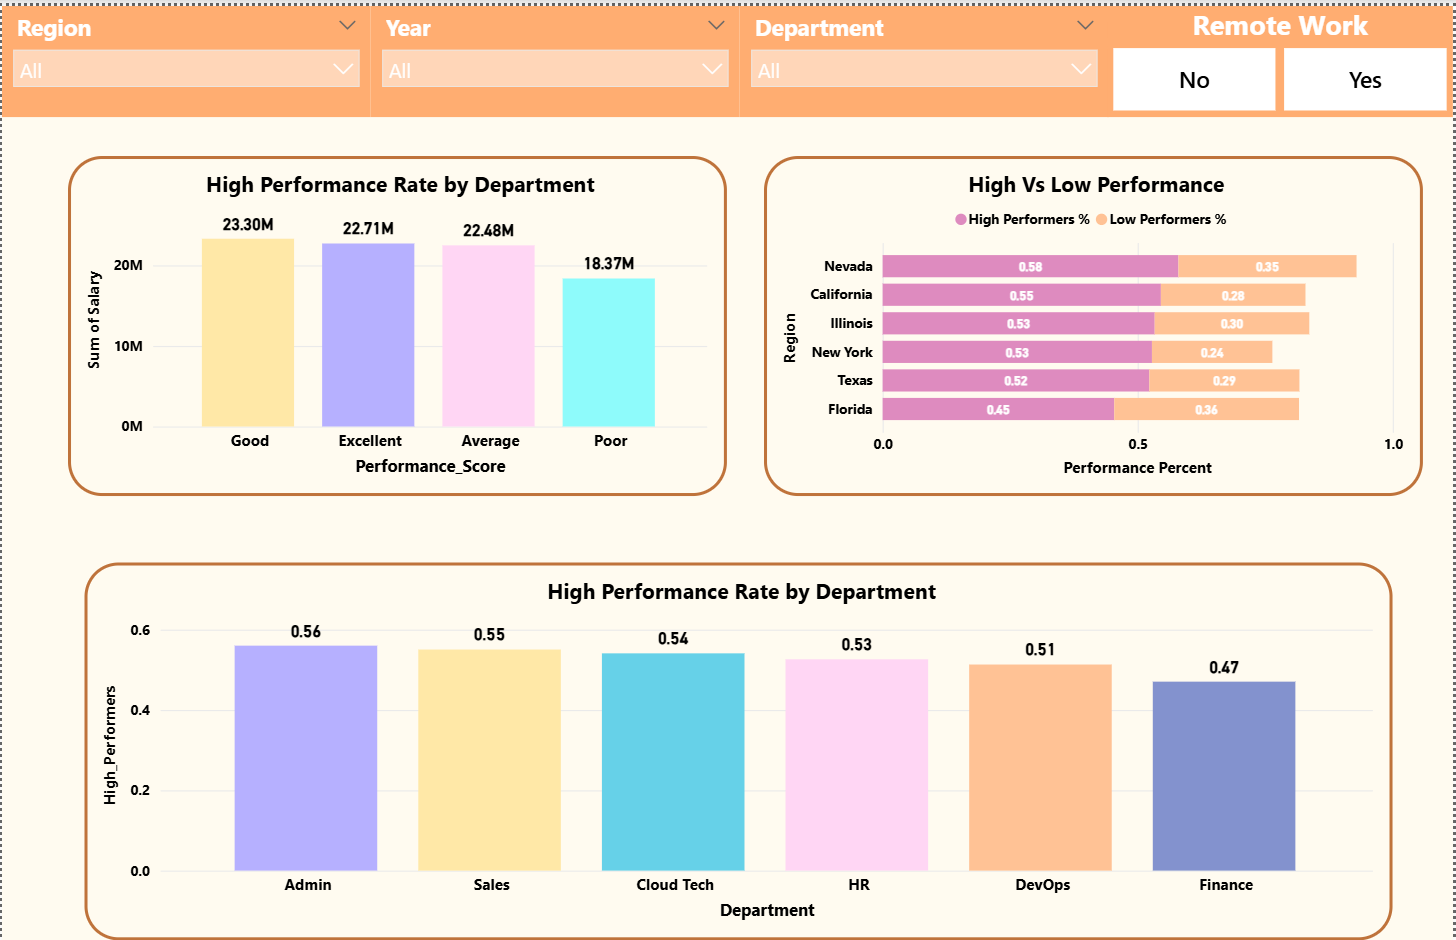

The dashboard page shown, as its layout file describes it:
{"tool":"powerbi","page":{"name":"Performance Analysis","canvas":[1280,824],"ordinal":2},"visuals":[{"type":"columnChart","title":"High Performance Rate by Department","fields":{"Y":["employees.High_Performers"],"Category":["employees.Department"]},"box":[72.6,491.1,1154.2,333.2],"z":0},{"type":"barChart","title":"High Vs Low Performance","fields":{"Y":["employees.High_Performers","employees.Low_Performers"],"Category":["employees.Region"]},"box":[672.6,132.6,581.1,300],"z":1000},{"type":"slicer","fields":{"Values":["employees.Region"]},"box":[0,0,325.3,97.9],"z":2000},{"type":"slicer","fields":{"Values":["employees.Department"]},"box":[650.5,0,325.3,97.9],"z":3000},{"type":"slicer","fields":{"Values":["employees.Year"]},"box":[325.3,0,325.3,97.9],"z":4000},{"type":"advancedSlicerVisual","fields":{"Values":["employees.Remote_Work_Group"]},"box":[975.8,0,304.7,97.9],"z":5000},{"type":"columnChart","title":"High Performance Rate by Department","fields":{"Y":["Sum(employees.Salary)"],"Category":["employees.Performance_Score"]},"box":[58.4,132.6,581.1,300],"z":6000}]}

Visuals, with their boxes in screenshot pixels (x1, y1, x2, y2), scaled from the page's 1280x824 canvas onto the 1456x940 screenshot:
"High Performance Rate by Department" columnChart: <box>83,560,1395,939</box>
"High Vs Low Performance" barChart: <box>765,151,1426,494</box>
slicer - employees.Region: <box>0,0,370,112</box>
slicer - employees.Department: <box>740,0,1110,112</box>
slicer - employees.Year: <box>370,0,740,112</box>
advancedSlicerVisual - employees.Remote_Work_Group: <box>1110,0,1455,112</box>
"High Performance Rate by Department" columnChart: <box>66,151,727,494</box>
